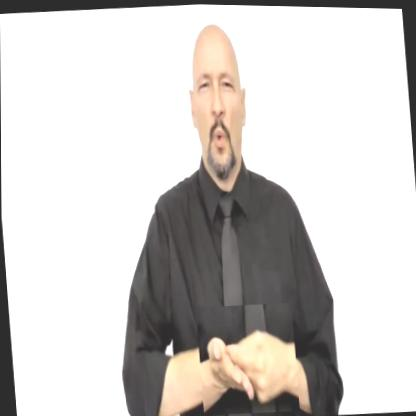Expensive: (195, 300, 300, 416)
